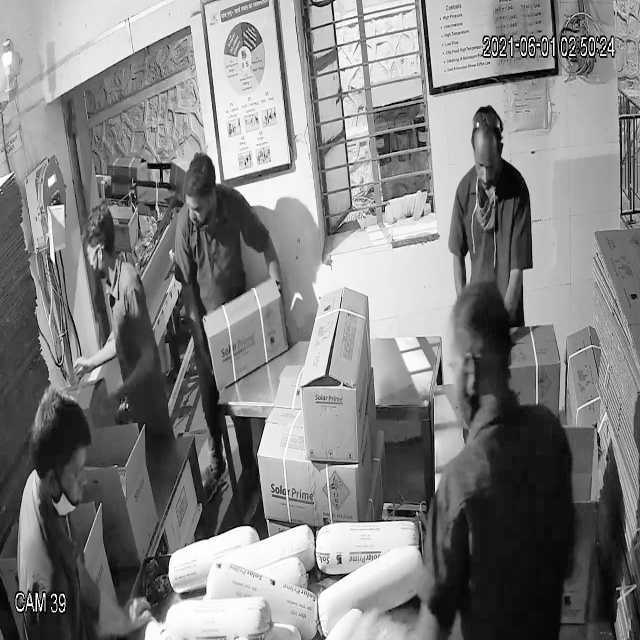Sin_gafas: (464, 147, 509, 181)
